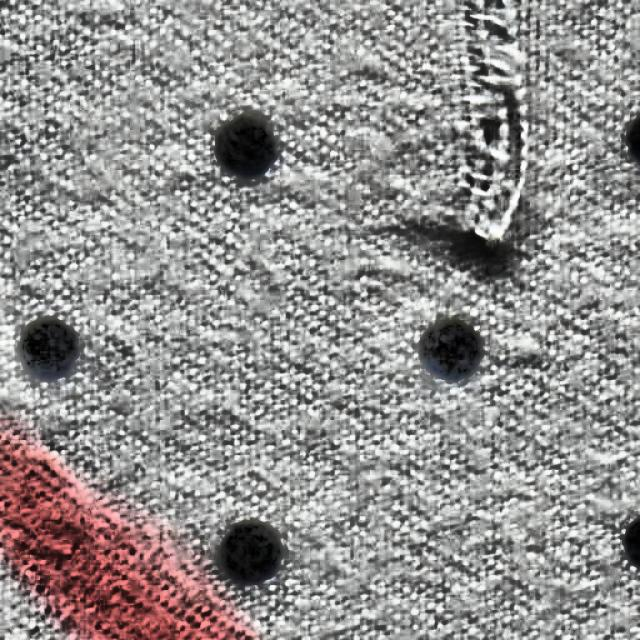Stitch: (439, 0, 548, 258)
